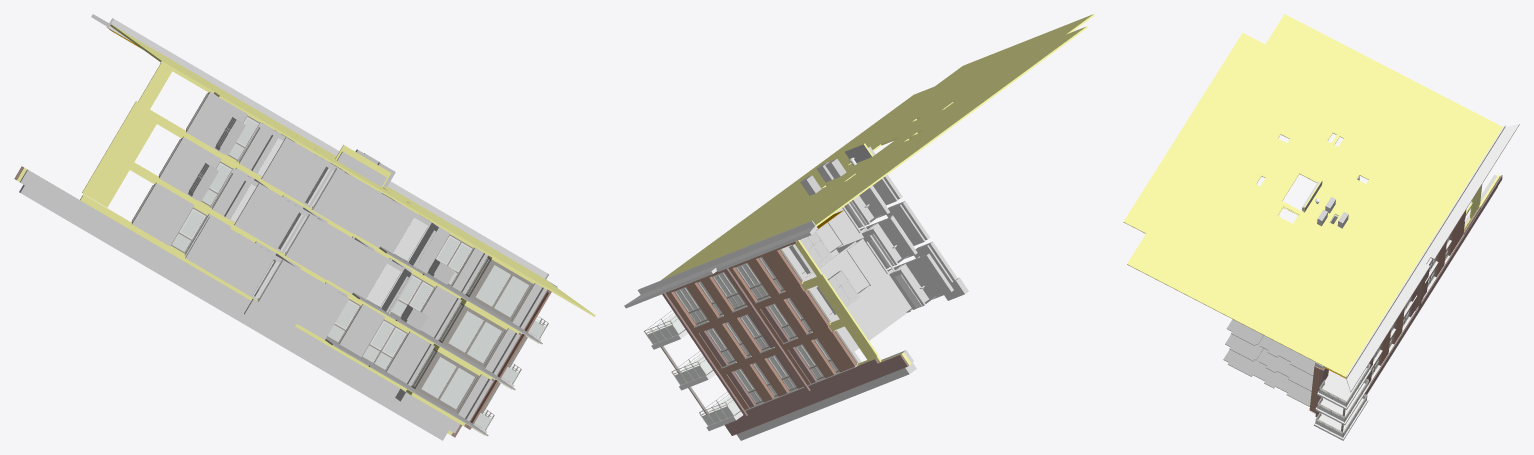
3 views of the same model, side by side, from view 1: azimuth 30°, elevation 25°; view 2: azimuth 150°, elevation 25°; view 3: azimuth 270°, elevation 25° (orthographic). The views are drawn at different scales.
Visible parts, largest first — view 1: mesh; view 2: mesh; view 3: mesh.
Boxes of the visible parts, left/top/right/bottom form: mesh: left=14, top=14, right=595, bottom=440; mesh: left=624, top=14, right=1094, bottom=440; mesh: left=1123, top=14, right=1519, bottom=440.
Bounding box in the file's own units: 29.15 × 30.61 × 34.91.
